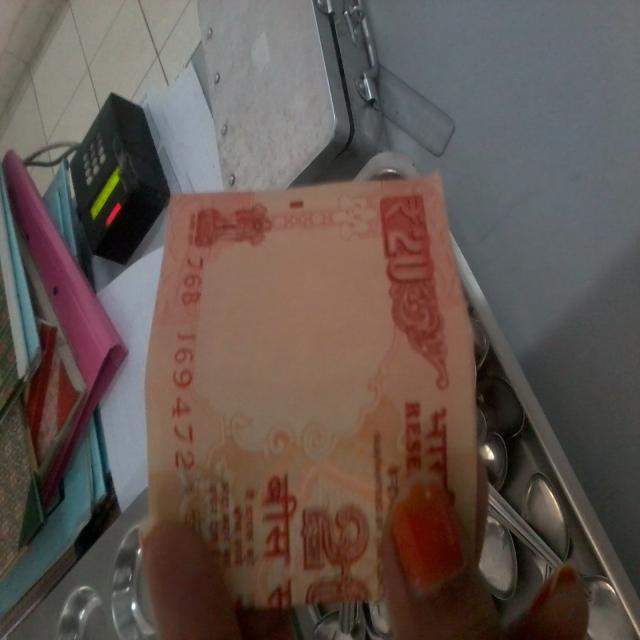20rs: (141, 182, 482, 620)
